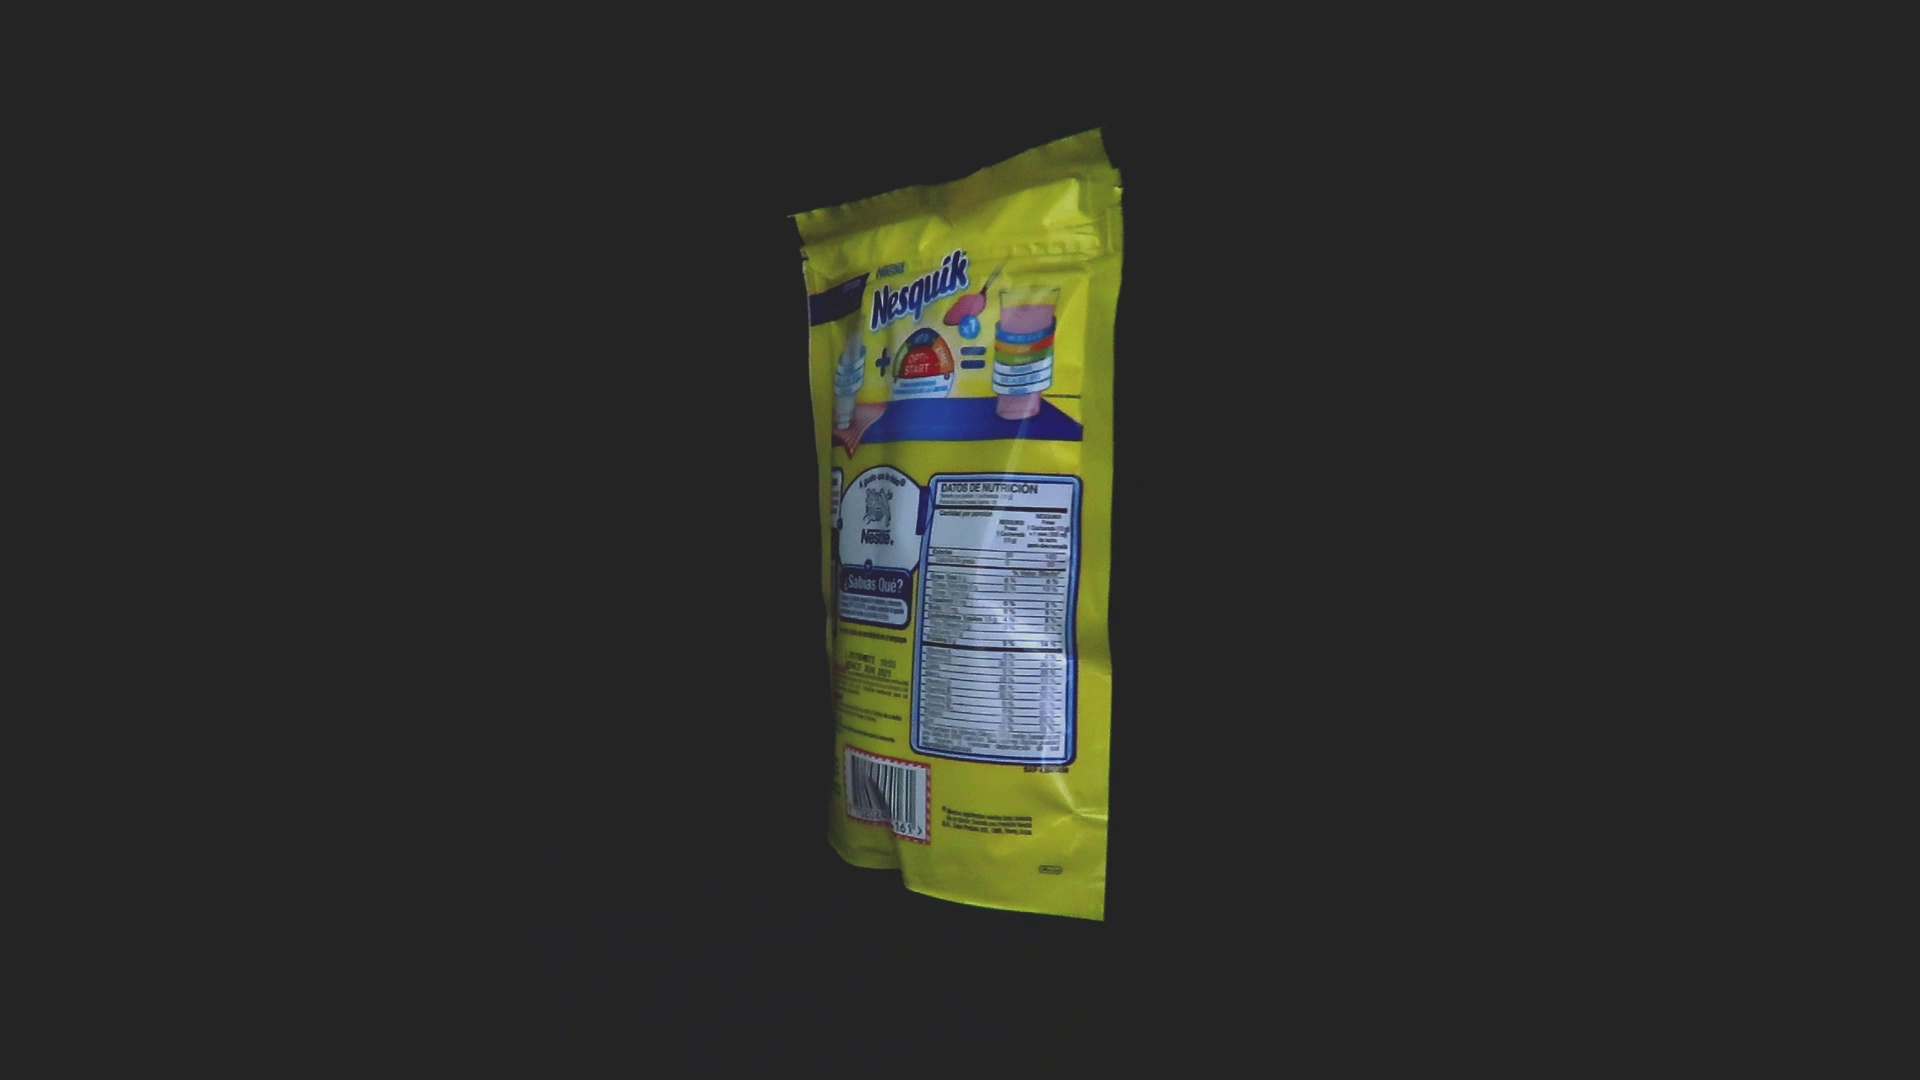COL0170305DYP20000: (782, 123, 1130, 927)
